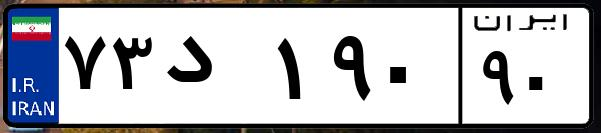0: (385, 28, 445, 110), (525, 38, 570, 115)
1: (270, 28, 330, 110)
3: (110, 28, 158, 98)
7: (57, 26, 110, 100)
9: (330, 28, 385, 110), (475, 38, 525, 113)
د: (158, 20, 270, 120)
